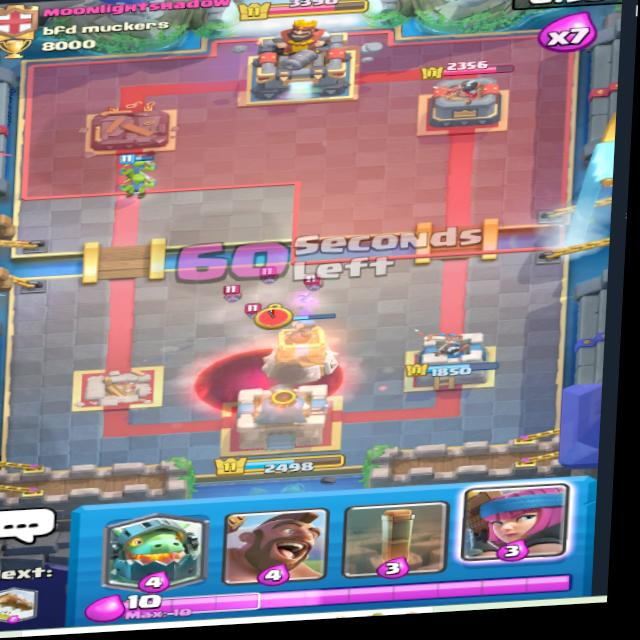bats: (230, 300, 272, 326), (253, 262, 287, 290), (213, 284, 248, 308), (302, 267, 327, 296)
void: (188, 335, 348, 418)
